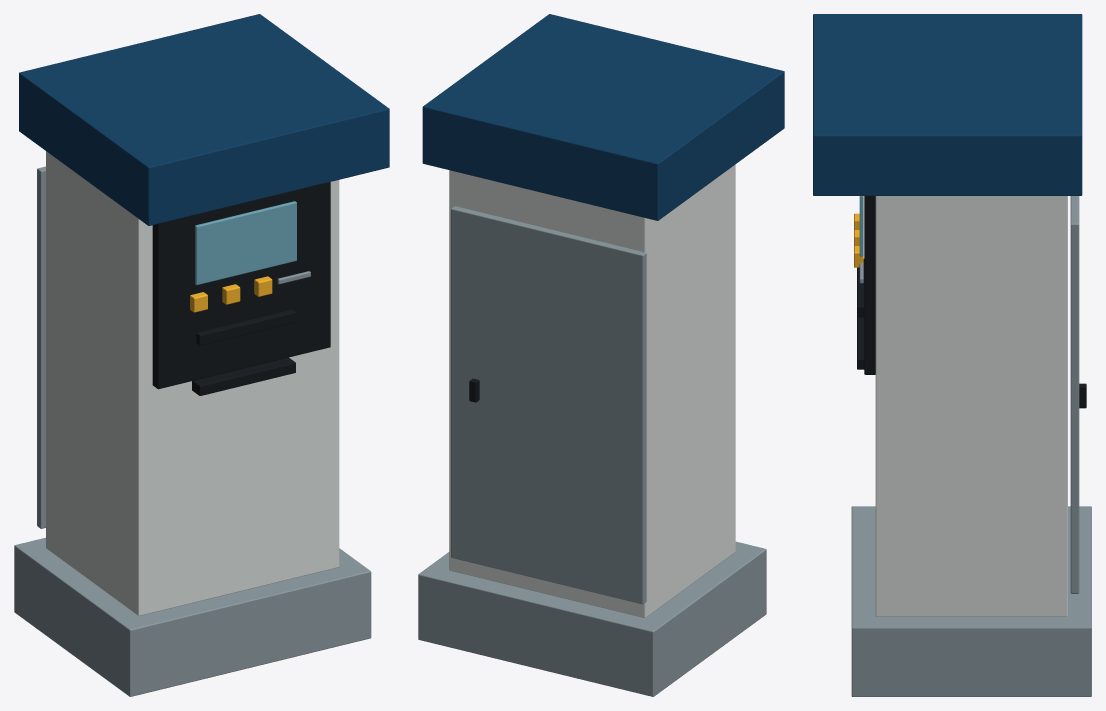
3 views of the same model, side by side, from view 1: azimuth 30°, elevation 25°; view 2: azimuth 150°, elevation 25°; view 3: azimuth 270°, elevation 25° (orthographic). The views are drawn at different scales.
Visible parts, largest first — view 1: CABINET, HOOD, PLINTH, FACE_Recess, SCREEN, SERVICE_Door, TICKET_Mouth.001, TICKET_Mouth; view 2: SERVICE_Door, HOOD, CABINET, PLINTH; view 3: CABINET, HOOD, PLINTH, SERVICE_Door, FACE_Recess.
Boxes of the visible parts, x1,y1,x2,y2 form: CABINET: (46, 151, 339, 615); HOOD: (19, 14, 389, 225); PLINTH: (14, 537, 371, 696); FACE_Recess: (152, 182, 330, 389); SCREEN: (195, 201, 296, 284); SERVICE_Door: (37, 166, 45, 528); TICKET_Mouth.001: (192, 357, 295, 395); TICKET_Mouth: (196, 309, 295, 345); SERVICE_Door: (451, 206, 646, 604); HOOD: (422, 14, 784, 220); CABINET: (449, 164, 735, 617); PLINTH: (418, 541, 766, 696); CABINET: (875, 196, 1067, 616); HOOD: (813, 14, 1082, 195); PLINTH: (851, 506, 1091, 696); SERVICE_Door: (1070, 196, 1079, 593); FACE_Recess: (864, 196, 875, 374).
Size of the model in its own units: 0.6 by 1.29 by 0.58.
